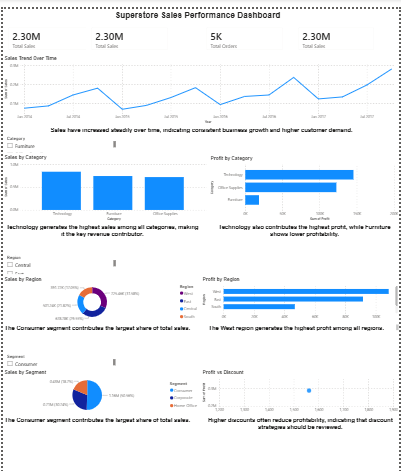

The page's visual inventory and layout, read from the dashboard file:
{"tool":"powerbi","page":{"name":"Sales Performance Dashboard","canvas":[1280,1500],"ordinal":0},"visuals":[{"type":"cardVisual","fields":{"Data":["Sample - Superstore.Total Sales"]},"box":[0,42.1,305.3,107.9],"z":0},{"type":"cardVisual","fields":{"Data":["Sample - Superstore.Total Sales"]},"box":[268.4,42.1,281.6,107.9],"z":1000},{"type":"cardVisual","fields":{"Data":["Sample - Superstore.Total Orders"]},"box":[639.5,42.1,281.6,107.9],"z":2000},{"type":"cardVisual","fields":{"Data":["Sample - Superstore.Total Sales"]},"box":[936.8,42.1,278.9,107.9],"z":3000},{"type":"lineChart","title":"Sales Trend Over Time","fields":{"Category":["Sample - Superstore.Order Date.Variation.Date Hierarchy.Year","Sample - Superstore.Order Date.Variation.Date Hierarchy.Quarter","Sample - Superstore.Order Date.Variation.Date Hierarchy.Month","Sample - Superstore.Order Date.Variation.Date Hierarchy.Day"],"Y":["Sum(Sample - Superstore.Sales)"]},"box":[0,149.4,1280.5,225.6],"z":4000},{"type":"clusteredColumnChart","title":"Sales by Category","fields":{"Category":["Sample - Superstore.Category"],"Y":["Sum(Sample - Superstore.Sales)"]},"box":[0,466.5,661.6,219.5],"z":5000},{"type":"clusteredBarChart","title":"Profit by Category","fields":{"Category":["Sample - Superstore.Category"],"Y":["Sum(Sample - Superstore.Profit)"]},"box":[664.6,469.5,615.9,216.5],"z":6000},{"type":"textbox","box":[0,375,1280.5,54.9],"z":7000},{"type":"textbox","box":[0,686,640.2,64],"z":8000},{"type":"textbox","box":[664.6,686,615.9,64],"z":9000},{"type":"donutChart","title":"Sales by Region","fields":{"Category":["Sample - Superstore.Region"],"Y":["Sum(Sample - Superstore.Sales)"]},"box":[0,859.8,640.2,149.4],"z":10000},{"type":"textbox","box":[0,1012.2,640.2,61],"z":11000},{"type":"scatterChart","title":"Profit vs Discount","fields":{"X":["Sum(Sample - Superstore.Discount)"],"Y":["Sum(Sample - Superstore.Profit)"],"Size":["Sum(Sample - Superstore.Sales)"]},"box":[640.2,1161.6,640.2,149.4],"z":12000},{"type":"textbox","box":[640.2,1311,640.2,79.3],"z":13000},{"type":"clusteredBarChart","title":"Profit by Region","fields":{"Category":["Sample - Superstore.Region"],"Y":["Sum(Sample - Superstore.Profit)"]},"box":[640.2,859.8,640.2,149.4],"z":14000},{"type":"textbox","box":[615.9,1012.2,664.6,30.5],"z":15000},{"type":"pieChart","title":"Sales by Segment","fields":{"Category":["Sample - Superstore.Segment"],"Y":["Sum(Sample - Superstore.Sales)"]},"box":[0,1161.6,640.2,149.4],"z":16000},{"type":"textbox","box":[0,1311,640.2,79.3],"z":17000},{"type":"slicer","fields":{"Values":["Sample - Superstore.Region"]},"box":[0,786.6,368.9,73.2],"z":18000},{"type":"slicer","fields":{"Values":["Sample - Superstore.Category"]},"box":[0,402.4,368.9,64],"z":19000},{"type":"slicer","fields":{"Values":["Sample - Superstore.Segment"]},"box":[0,1105.3,368.4,55.3],"z":20000},{"type":"textbox","box":[0,0,1255.3,42.1],"z":20001}]}

Visuals, with their boxes in screenshot pixels (x1, y1, x2, y2), scaled from the page's 1280x1500 canvas onto the 401x471 screenshot:
cardVisual - Sample - Superstore.Total Sales: Rect(0, 13, 96, 47)
cardVisual - Sample - Superstore.Total Sales: Rect(84, 13, 172, 47)
cardVisual - Sample - Superstore.Total Orders: Rect(200, 13, 289, 47)
cardVisual - Sample - Superstore.Total Sales: Rect(293, 13, 381, 47)
"Sales Trend Over Time" lineChart: Rect(0, 47, 400, 118)
"Sales by Category" clusteredColumnChart: Rect(0, 146, 207, 215)
"Profit by Category" clusteredBarChart: Rect(208, 147, 400, 215)
textbox: Rect(0, 118, 400, 135)
textbox: Rect(0, 215, 201, 236)
textbox: Rect(208, 215, 400, 236)
"Sales by Region" donutChart: Rect(0, 270, 201, 317)
textbox: Rect(0, 318, 201, 337)
"Profit vs Discount" scatterChart: Rect(201, 365, 400, 412)
textbox: Rect(201, 412, 400, 437)
"Profit by Region" clusteredBarChart: Rect(201, 270, 400, 317)
textbox: Rect(193, 318, 400, 327)
"Sales by Segment" pieChart: Rect(0, 365, 201, 412)
textbox: Rect(0, 412, 201, 437)
slicer - Sample - Superstore.Region: Rect(0, 247, 116, 270)
slicer - Sample - Superstore.Category: Rect(0, 126, 116, 146)
slicer - Sample - Superstore.Segment: Rect(0, 347, 115, 364)
textbox: Rect(0, 0, 393, 13)
